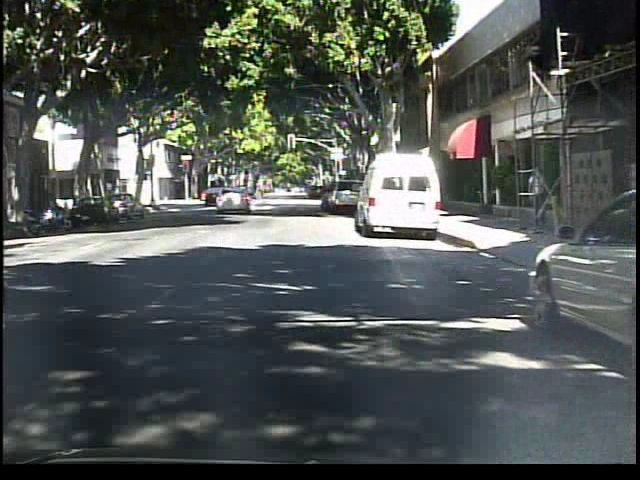person: (524, 162, 550, 233), (250, 175, 270, 208)
